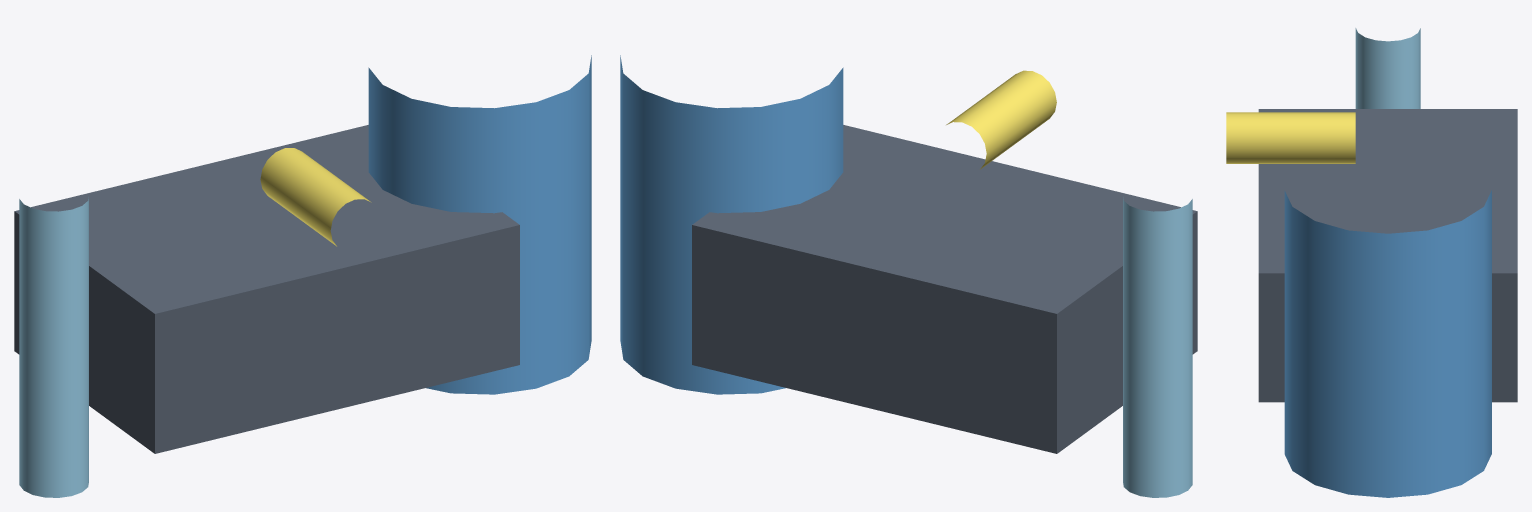
Rendered from ic555_multivibrators.glb.
The picture shows the model from 3 angles, left to right: view 1: azimuth 30°, elevation 25°; view 2: azimuth 150°, elevation 25°; view 3: azimuth 270°, elevation 25°; orthographic projection. The views are drawn at different scales.
Parts seen in each view (by area): view 1: NE555TimerICDIP8Package, TimingElectrolyticCapacitorC, ExternalTimingResistorsRARB, Pin3SquareWaveOutputDriver; view 2: NE555TimerICDIP8Package, TimingElectrolyticCapacitorC, ExternalTimingResistorsRARB, Pin3SquareWaveOutputDriver; view 3: TimingElectrolyticCapacitorC, NE555TimerICDIP8Package, Pin3SquareWaveOutputDriver, ExternalTimingResistorsRARB.
Part boxes in pixels (x1,y1,x2,y2): NE555TimerICDIP8Package: (14, 125, 519, 453); TimingElectrolyticCapacitorC: (368, 55, 591, 394); ExternalTimingResistorsRARB: (19, 197, 88, 497); Pin3SquareWaveOutputDriver: (260, 148, 371, 246); NE555TimerICDIP8Package: (692, 125, 1197, 453); TimingElectrolyticCapacitorC: (620, 55, 843, 394); ExternalTimingResistorsRARB: (1123, 197, 1192, 497); Pin3SquareWaveOutputDriver: (946, 70, 1056, 169); TimingElectrolyticCapacitorC: (1284, 190, 1491, 497); NE555TimerICDIP8Package: (1258, 109, 1517, 402); Pin3SquareWaveOutputDriver: (1226, 112, 1355, 163); ExternalTimingResistorsRARB: (1355, 28, 1420, 108).
Size of the model in its own units: 0.91 by 0.5 by 0.45.
